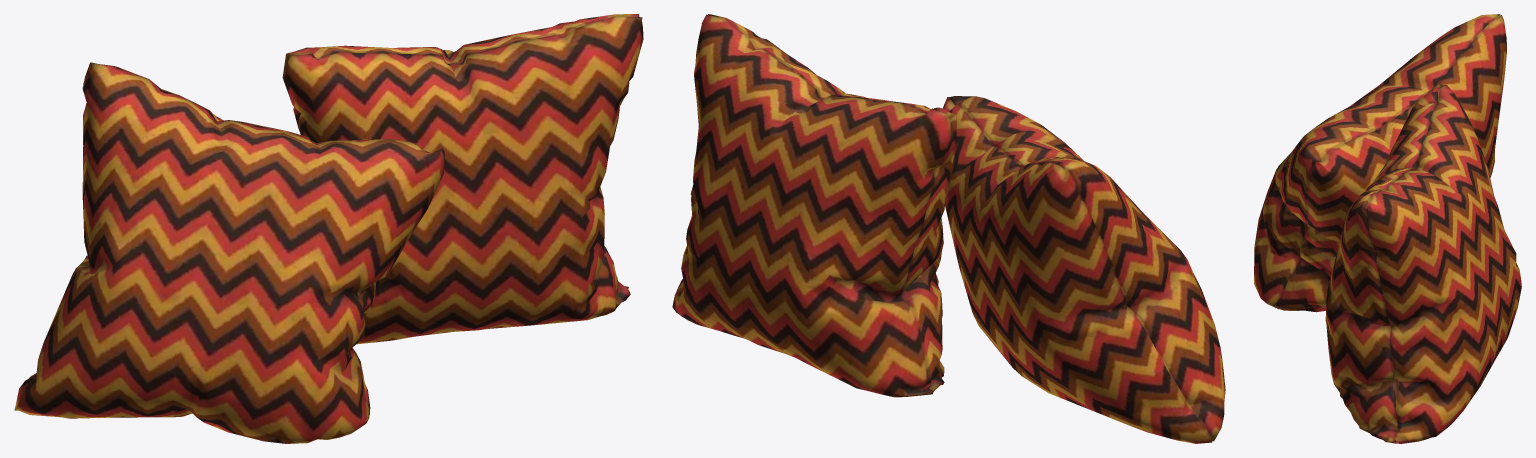
Rendered from throw_pillows_01.glb.
3 views of the same model, side by side, from view 1: azimuth 30°, elevation 25°; view 2: azimuth 150°, elevation 25°; view 3: azimuth 270°, elevation 25° (orthographic). The views are drawn at different scales.
Parts seen in each view (by area): view 1: throw_pillows_01_pillow02; view 2: throw_pillows_01_pillow02; view 3: throw_pillows_01_pillow02.
Part boxes in pixels (bbox=[...]): throw_pillows_01_pillow02: bbox=[14, 14, 643, 443]; throw_pillows_01_pillow02: bbox=[672, 14, 1225, 443]; throw_pillows_01_pillow02: bbox=[1254, 14, 1521, 443].
Size of the model in its own units: 0.9401 by 0.45 by 0.4504.
1 material, 1 textured.
